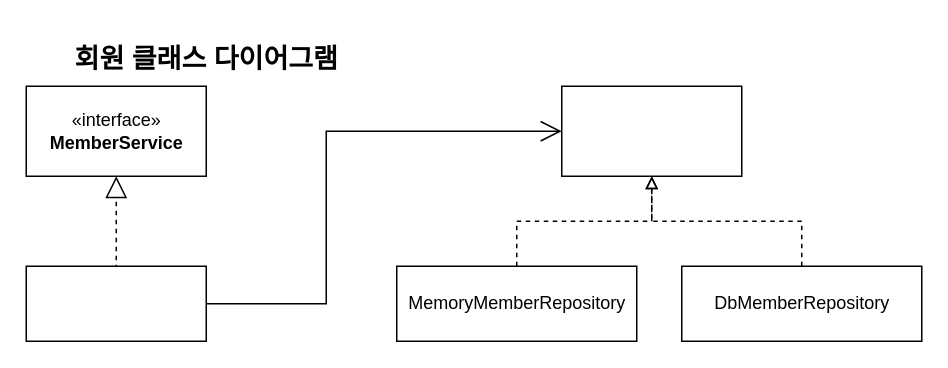
Some shapes in this 948 by 368 pixel diagram are drawn without their labels. The shapes that lost their labels are listed below. From the top down, each one's centre as x and y in pixels, then its label:
the point at 651,130: «interface» MemberRepository
the point at 115,303: MemberServiceImpl
